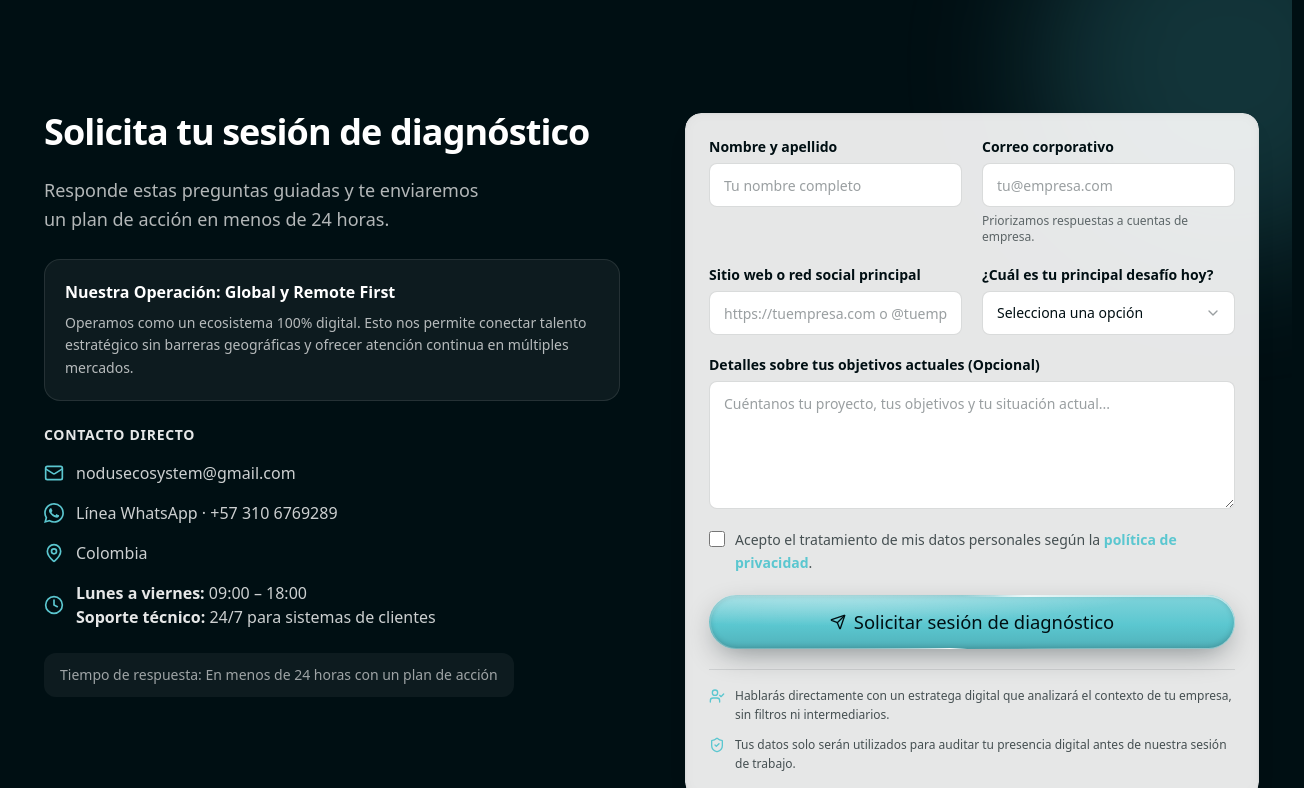
Test case: ContactForm › clears the field error while typing
Click the button "Solicitar sesión de diagnóstico" at (972, 622), box top-left (709, 594), bottom-right (1235, 649)
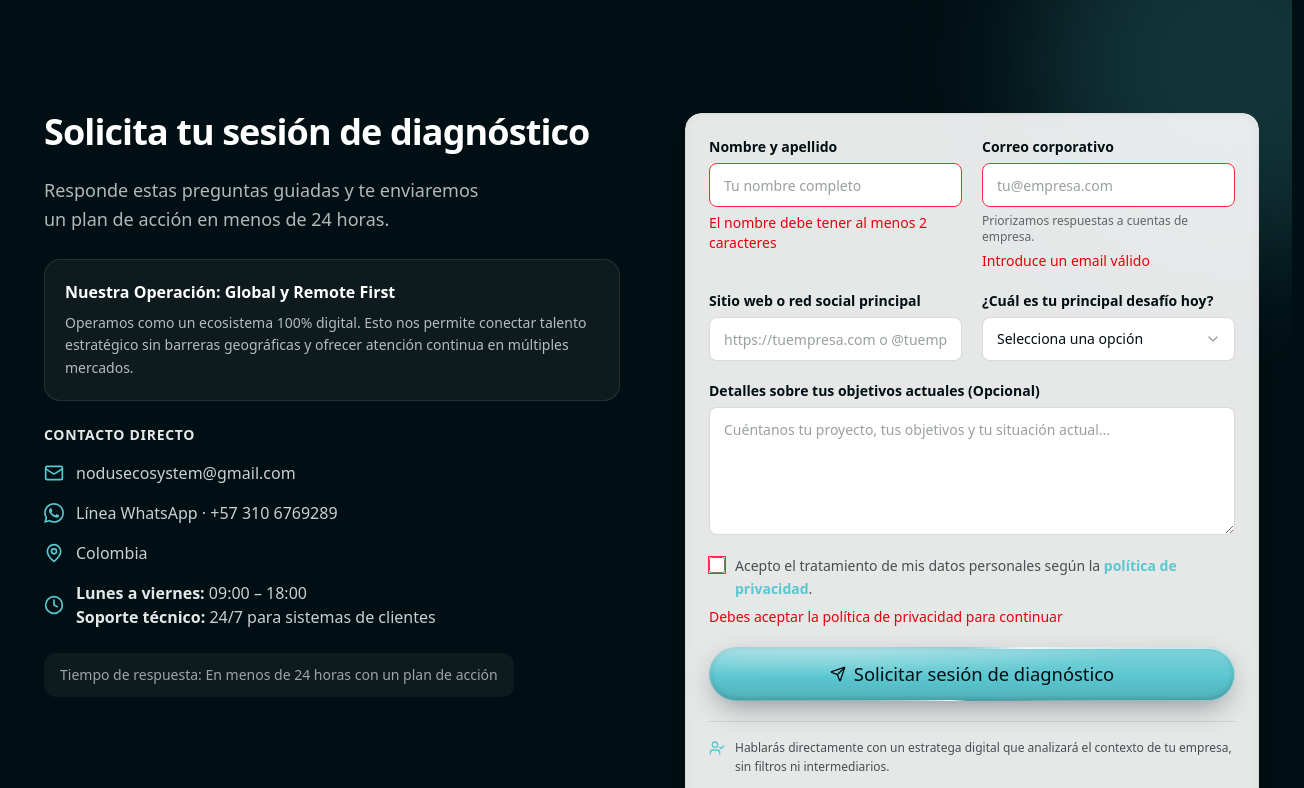
Expected: the text "Introduce un email válido" is shown, top-left (982, 251), bottom-right (1150, 270)
Type "ana@example.com" into the field labelled "Correo corporativo" at (1108, 185), box top-left (982, 163), bottom-right (1235, 207)
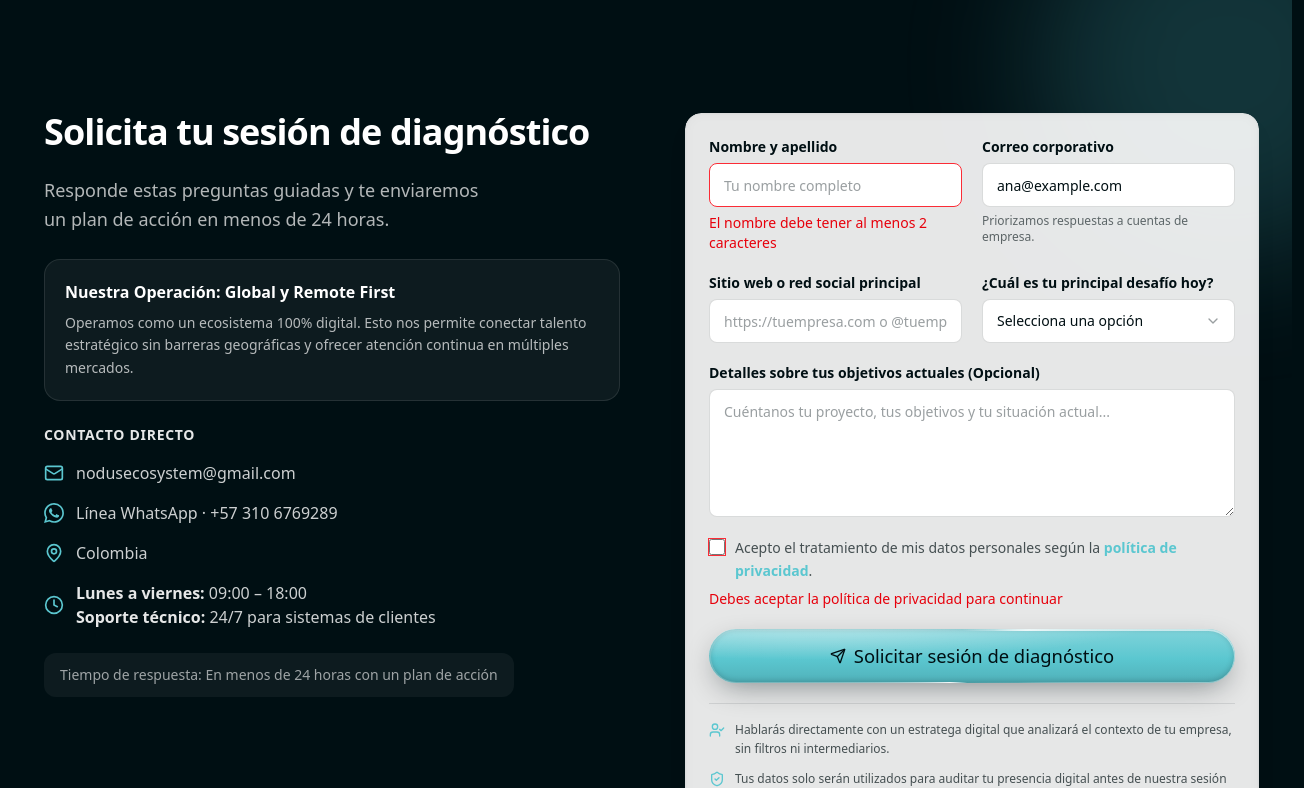
Expected: the text "Introduce un email válido" is gone
